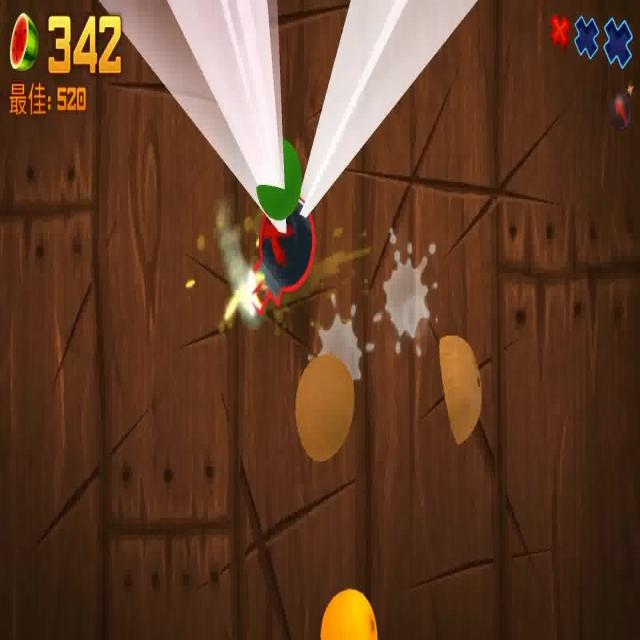bomb: (237, 203, 333, 322)
fruit: (288, 351, 372, 484), (432, 322, 496, 453), (253, 124, 309, 224), (318, 588, 378, 640)
